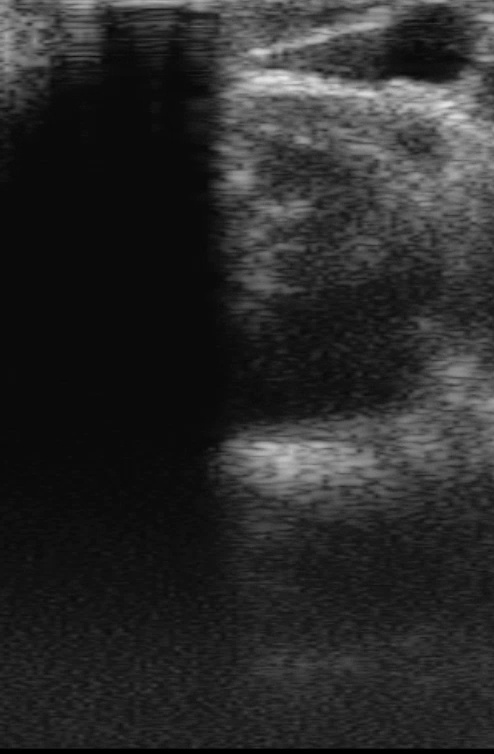veins_detect: (357, 3, 484, 91)
veins_seg: (358, 3, 475, 83)
